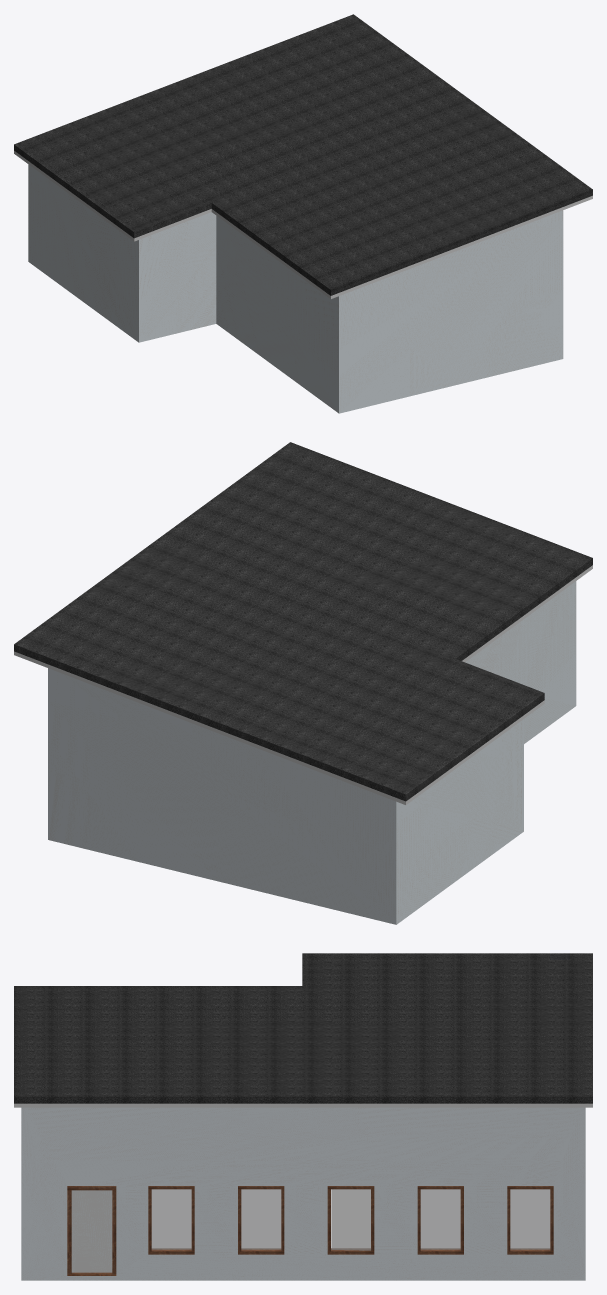
File: building.fbx
The picture shows the model from 3 angles, top to bottom: view 1: azimuth 30°, elevation 25°; view 2: azimuth 150°, elevation 25°; view 3: azimuth 270°, elevation 25°; orthographic projection. The views are drawn at different scales.
Parts seen in each view (by area): view 1: SketchUp, group_1.002, SketchUp.001; view 2: SketchUp, group_1.002, SketchUp.001; view 3: group_1.002, SketchUp, group_1.001, SketchUp.001, instance_0.001, instance_1.001, instance_3.001, instance_4.001, instance_2.001, group_1, instance_2, instance_0 (+3 smaller).
Part boxes in pixels (x1,y1,x2,y2): SketchUp: [14, 14, 592, 295]; group_1.002: [28, 164, 563, 413]; SketchUp.001: [14, 151, 592, 298]; SketchUp: [14, 442, 592, 801]; group_1.002: [48, 581, 576, 924]; SketchUp.001: [14, 565, 592, 804]; group_1.002: [21, 1107, 585, 1280]; SketchUp: [14, 953, 592, 1103]; group_1.001: [71, 1190, 112, 1272]; SketchUp.001: [14, 1103, 592, 1107]; instance_0.001: [151, 1189, 191, 1249]; instance_1.001: [241, 1189, 281, 1249]; instance_3.001: [420, 1189, 460, 1249]; instance_4.001: [510, 1189, 550, 1249]; instance_2.001: [331, 1189, 370, 1250]; group_1: [67, 1186, 116, 1275]; instance_2: [327, 1186, 374, 1254]; instance_0: [148, 1186, 194, 1254].
Size of the model in its own units: 1127 by 524 by 1377.
